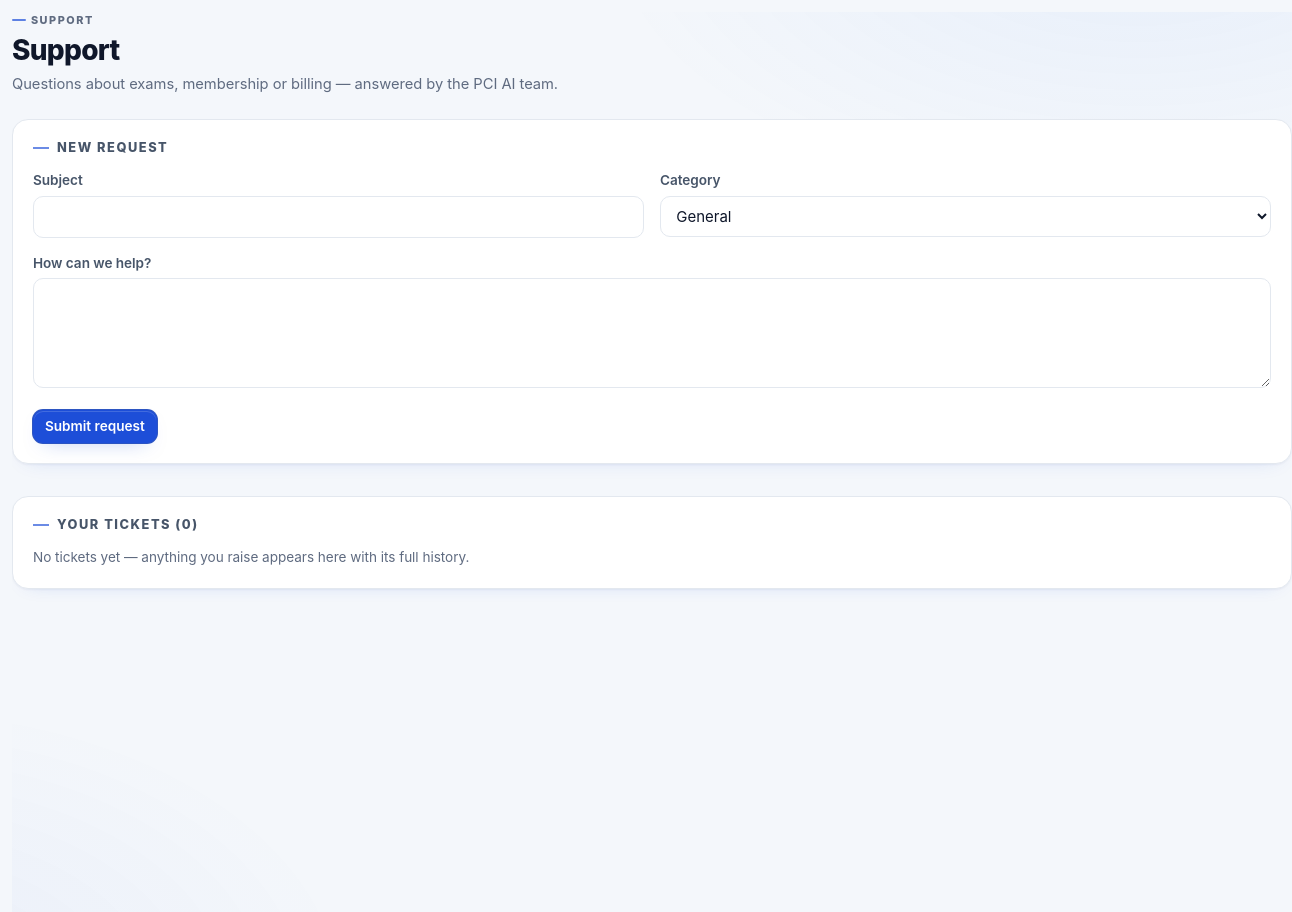
Scenario: Support (ticket lifecycle) › creates a ticket with the chosen category and echoes the reference
The width and height of the screenshot is (1292, 912).
In the field labelled "Subject": (338, 217) 33,196 -> 644,238, type "Exam reschedule"
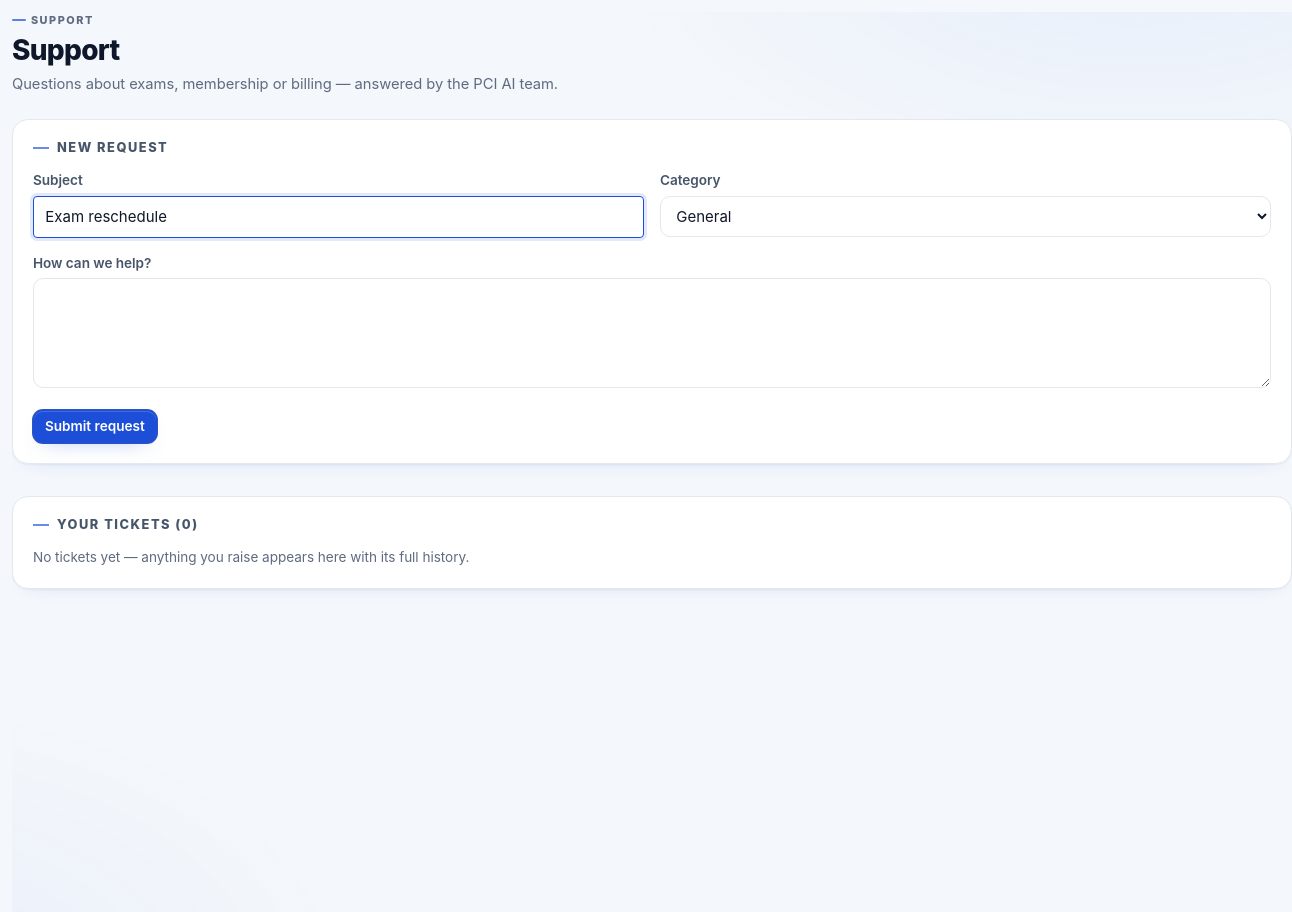
Select "Billing" in the dropdown labelled "Category": (966, 216) 660,196 -> 1271,236
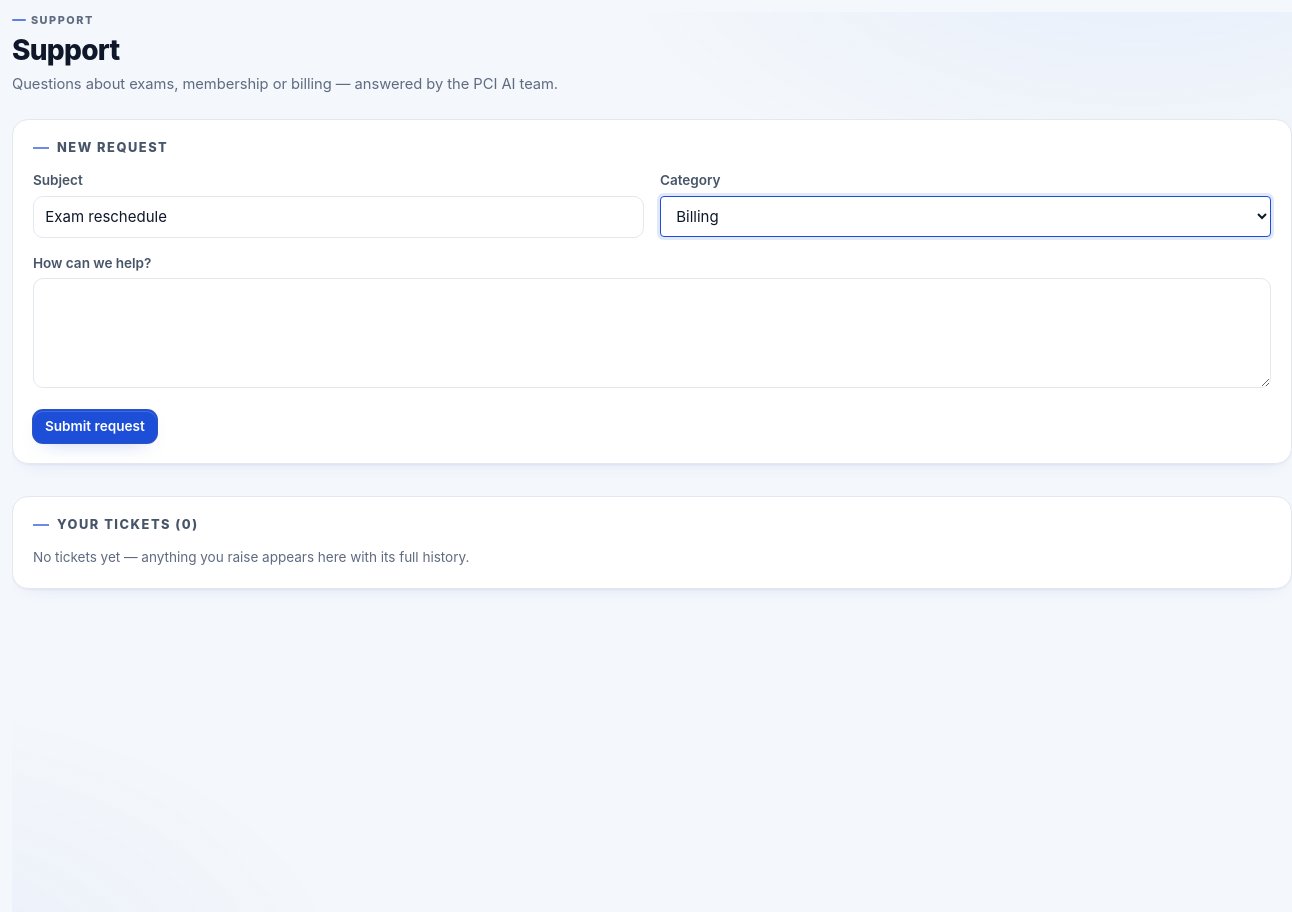
In the text box labelled "How can we help?": (652, 333) 33,278 -> 1271,388, type "I paid twice by mistake."
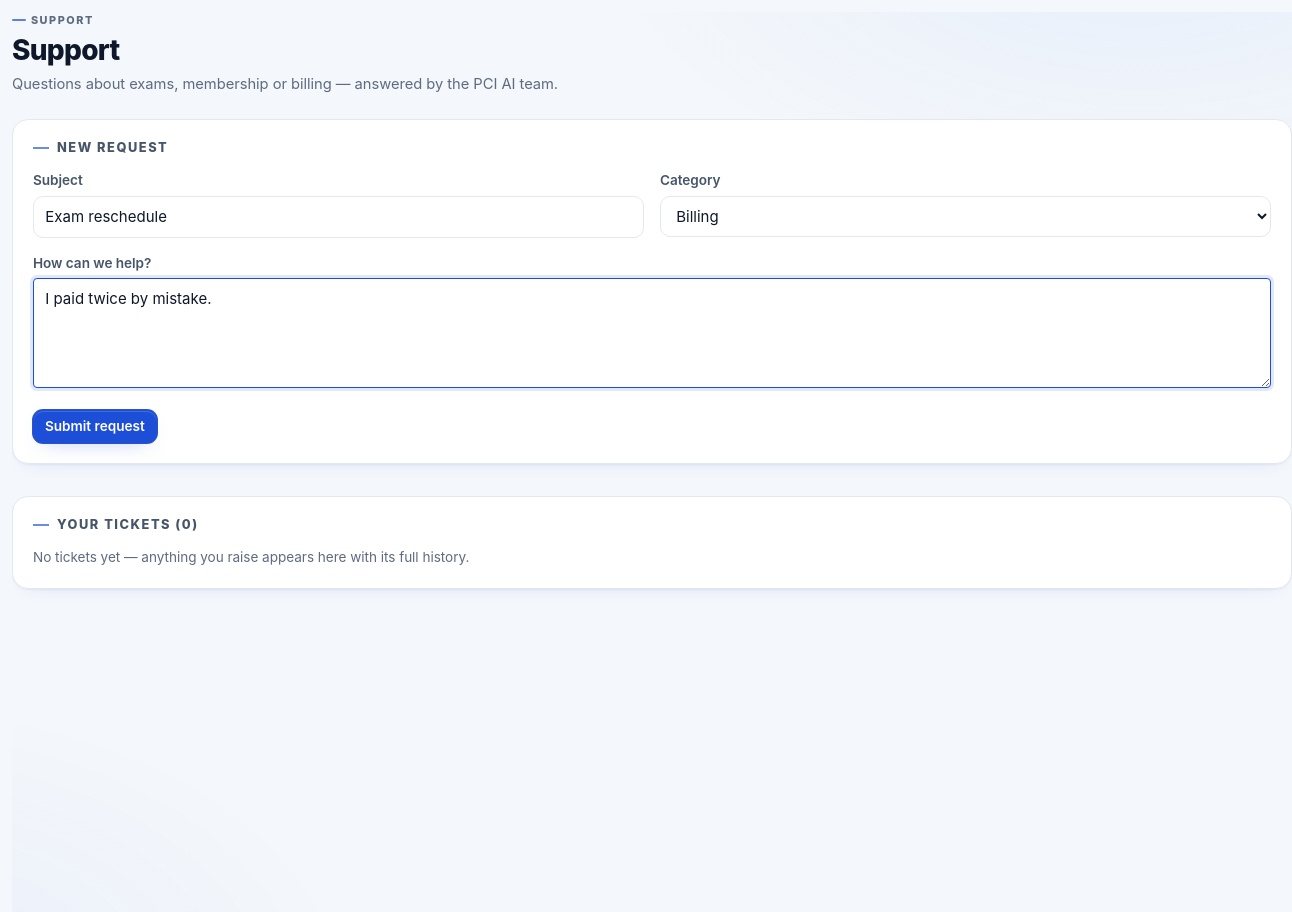
Click the button "Submit request": click(95, 426) 33,410 -> 157,443
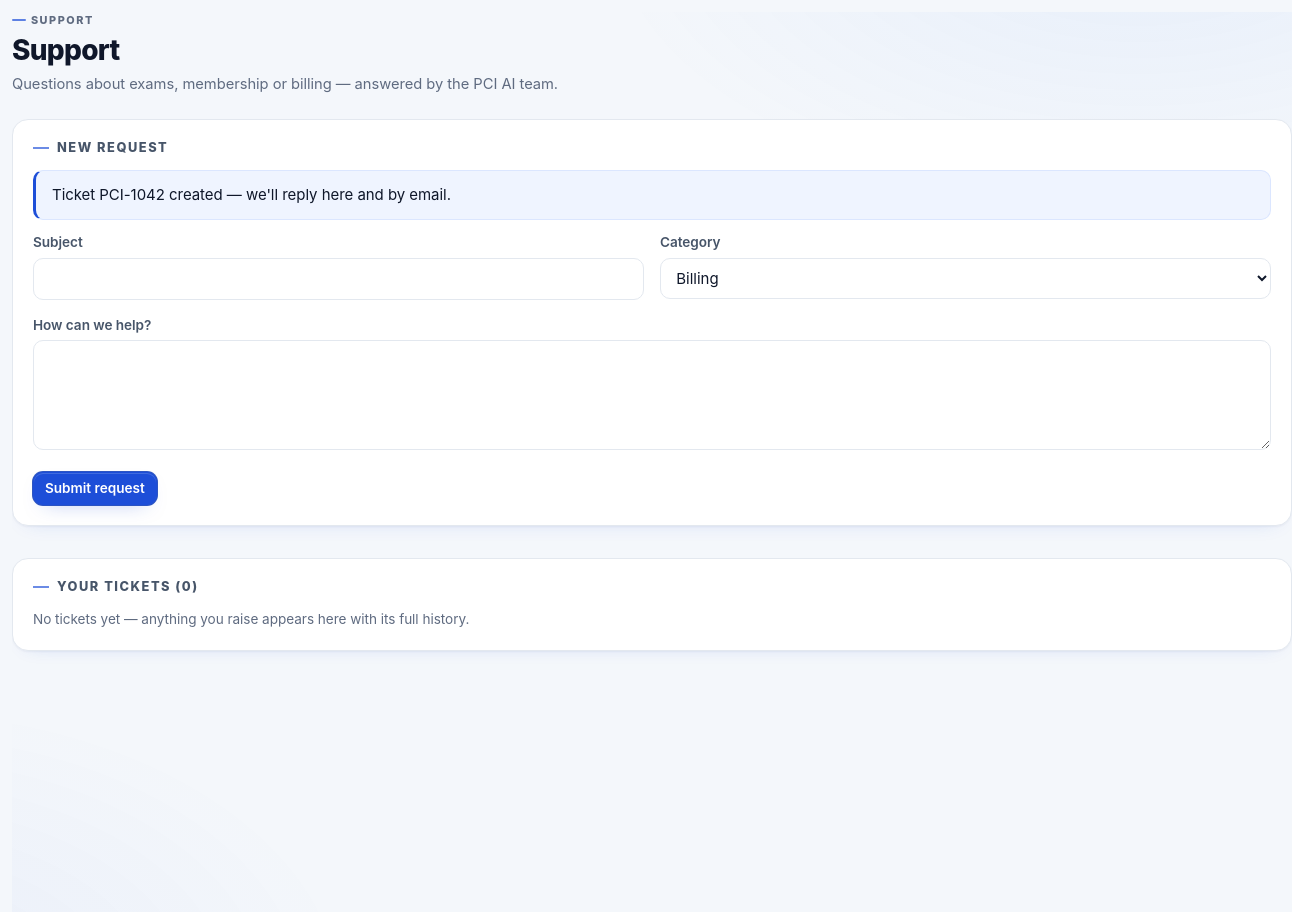
Expected: the text "Ticket PCI-1042 created — we'll reply here and by email." is shown, 33,170 -> 1271,220
